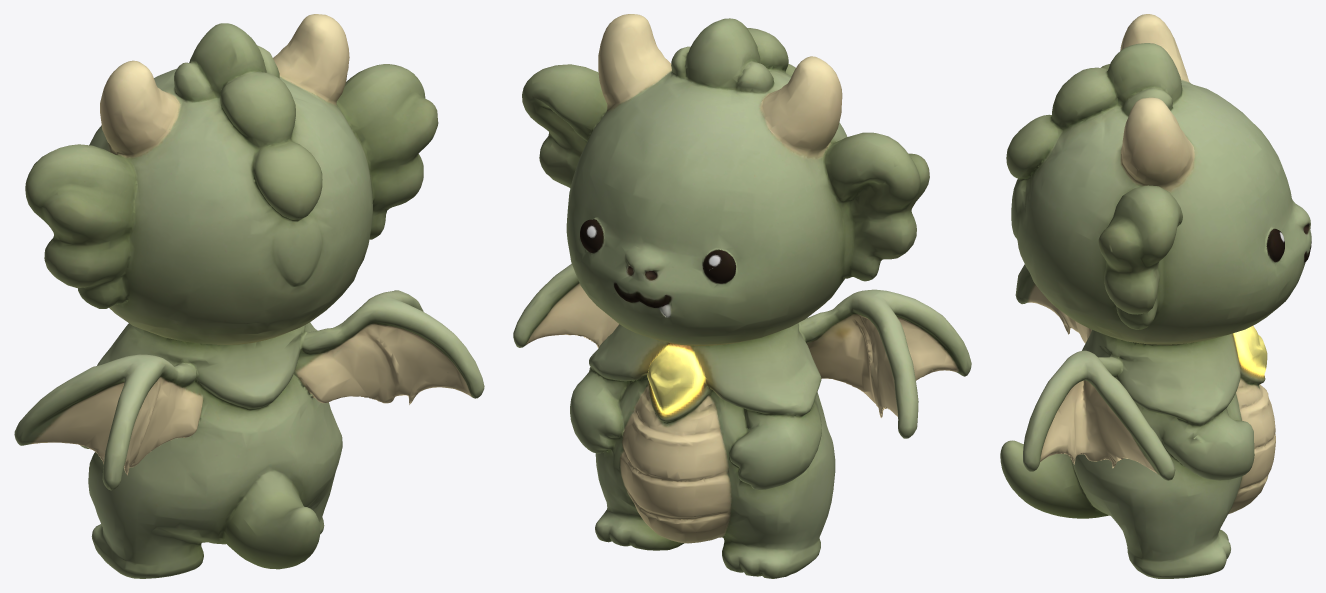
Rendered from dragon_body.glb.
The picture shows the model from 3 angles, left to right: view 1: azimuth 30°, elevation 25°; view 2: azimuth 150°, elevation 25°; view 3: azimuth 270°, elevation 25°; orthographic projection. The views are drawn at different scales.
Visible parts, largest first — view 1: Body; view 2: Body; view 3: Body.
Part boxes in pixels (bbox=[...]): Body: bbox=[14, 14, 484, 578]; Body: bbox=[513, 14, 971, 578]; Body: bbox=[1000, 14, 1311, 578].
Size of the model in its own units: 0.7935 by 0.9867 by 0.5648.
1 material, 1 textured.
